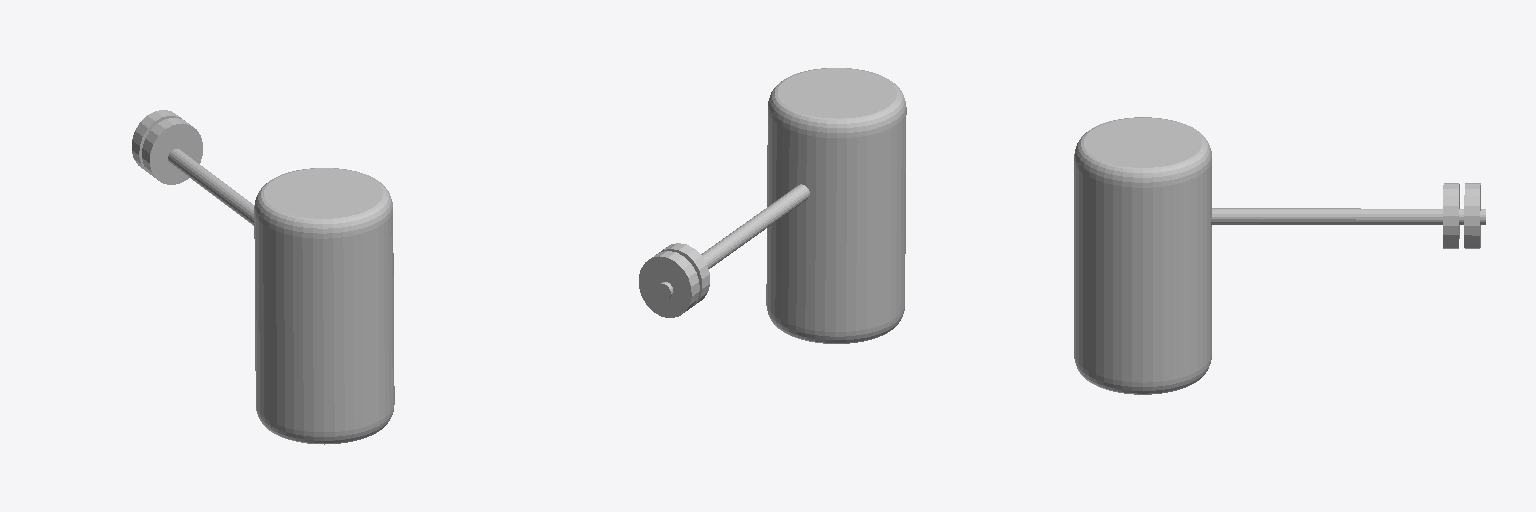
3 views of the same model, side by side, from view 1: azimuth 30°, elevation 25°; view 2: azimuth 150°, elevation 25°; view 3: azimuth 270°, elevation 25° (orthographic).
Visible parts, largest first — view 1: obj_0_group_0_[number redacted].002, obj_0_group_0_[number redacted].002, obj_0_group_0_[number redacted].002; view 2: obj_0_group_0_[number redacted].002, obj_0_group_0_[number redacted].002, obj_0_group_0_[number redacted].002; view 3: obj_0_group_0_[number redacted].002, obj_0_group_0_[number redacted].002, obj_0_group_0_[number redacted].002.
Part boxes in pixels (bbox=[...]): obj_0_group_0_[number redacted].002: bbox=[254, 168, 394, 444]; obj_0_group_0_[number redacted].002: bbox=[132, 110, 202, 184]; obj_0_group_0_[number redacted].002: bbox=[168, 149, 254, 225]; obj_0_group_0_[number redacted].002: bbox=[766, 68, 906, 343]; obj_0_group_0_[number redacted].002: bbox=[639, 243, 709, 317]; obj_0_group_0_[number redacted].002: bbox=[657, 184, 809, 298]; obj_0_group_0_[number redacted].002: bbox=[1074, 117, 1211, 394]; obj_0_group_0_[number redacted].002: bbox=[1211, 208, 1485, 224]; obj_0_group_0_[number redacted].002: bbox=[1443, 183, 1480, 248].
Size of the model in its own units: 284 by 502 by 829.